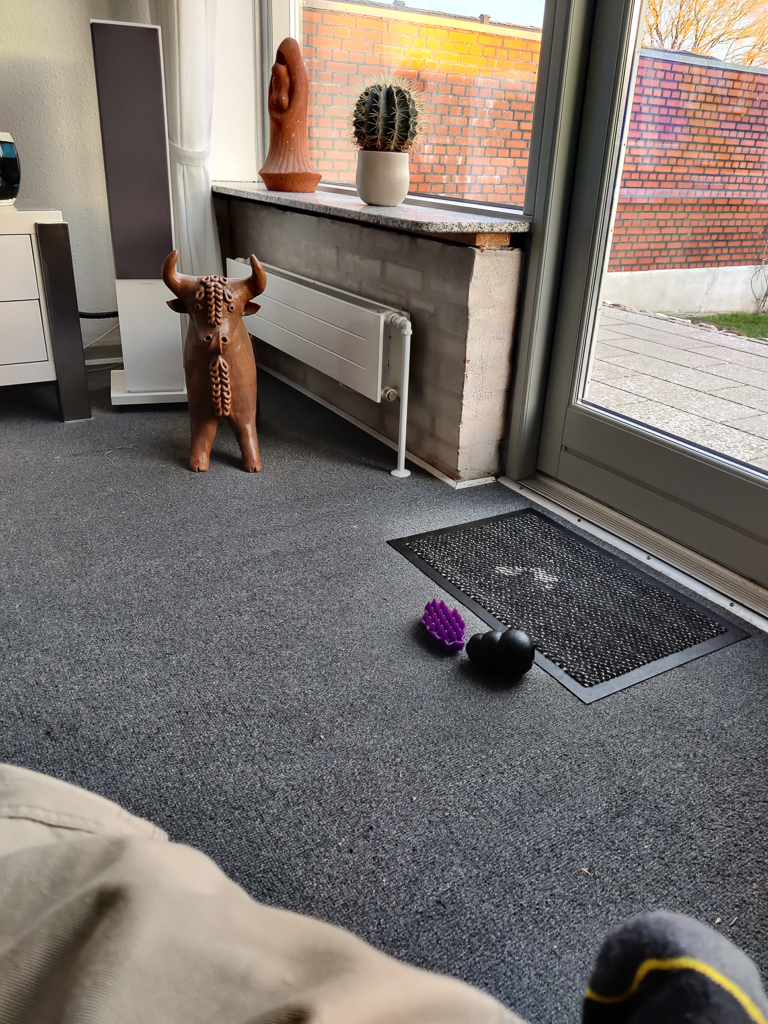Cattle: (148, 242, 278, 477)
Humanoid: (0, 750, 768, 1024), (243, 30, 335, 179)
